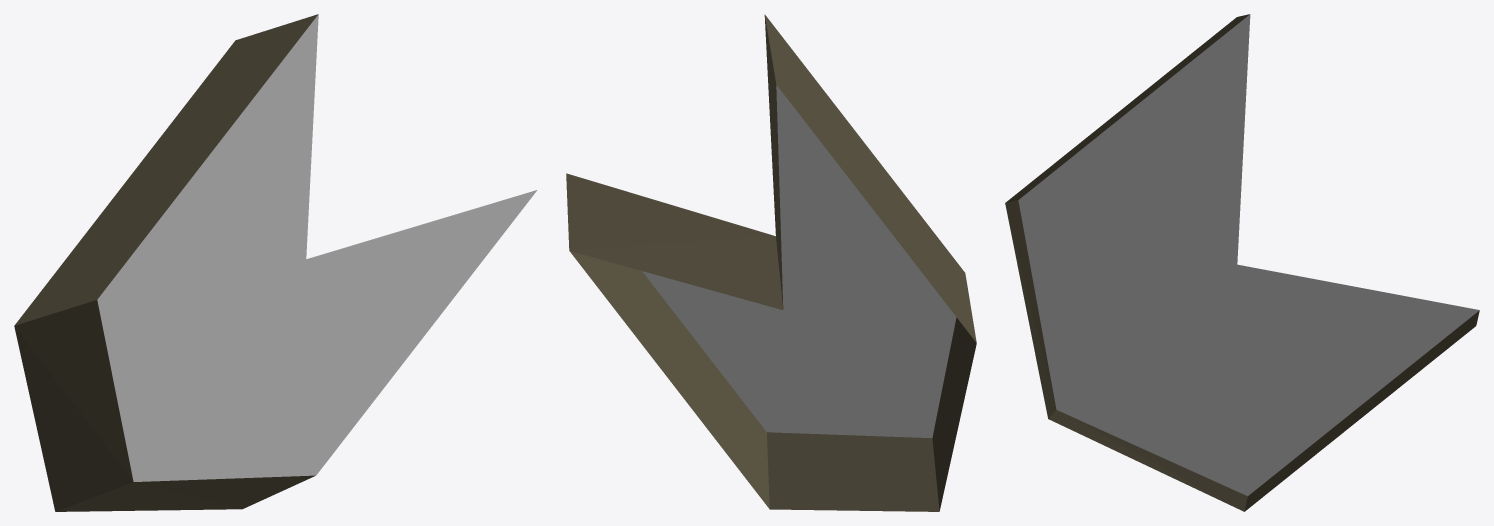
Rendered from EVT_MAINHALL_DOOR_LOCK_BL_01.OBJ.
3 renders of one model, left to right at view 1: azimuth 30°, elevation 25°; view 2: azimuth 150°, elevation 25°; view 3: azimuth 330°, elevation 25°, orthographic. The views are drawn at different scales.
Visible parts, largest first — view 1: EVT_MAINHALL_DOOR_LOCK_BL_01; view 2: EVT_MAINHALL_DOOR_LOCK_BL_01; view 3: EVT_MAINHALL_DOOR_LOCK_BL_01.
Boxes of the visible parts, bbox=[...] form: EVT_MAINHALL_DOOR_LOCK_BL_01: bbox=[14, 14, 537, 511]; EVT_MAINHALL_DOOR_LOCK_BL_01: bbox=[566, 14, 976, 511]; EVT_MAINHALL_DOOR_LOCK_BL_01: bbox=[1005, 14, 1479, 511].
Size of the model in its own units: 0.4005 by 0.4005 by 0.05.
